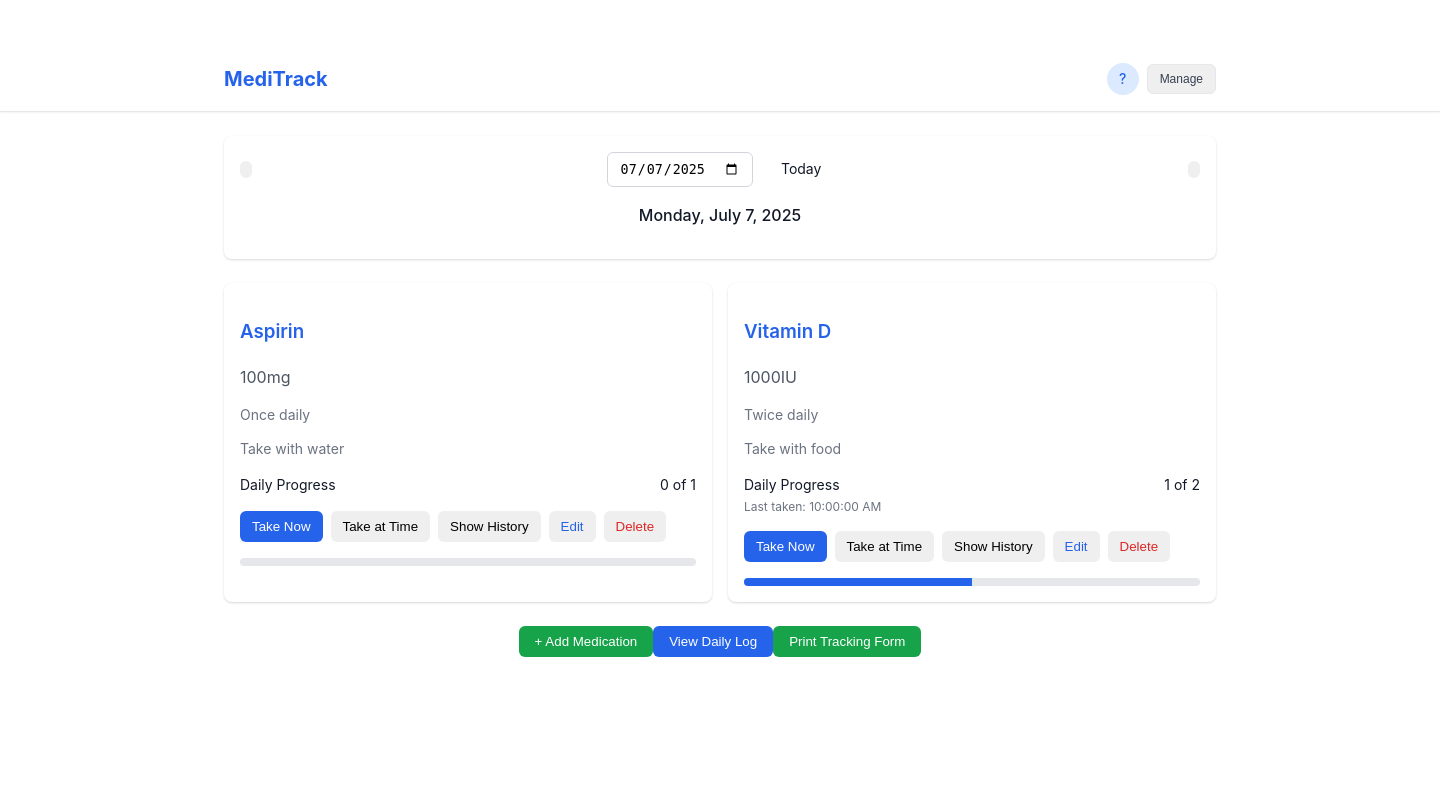
Test: MedicationTracker › Medication CRUD Operations › shows edit form when Edit button is clicked
The image size is (1440, 810).
Click the button "Edit" below "Take with water".
click(572, 526)  # box [549,511,596,542]
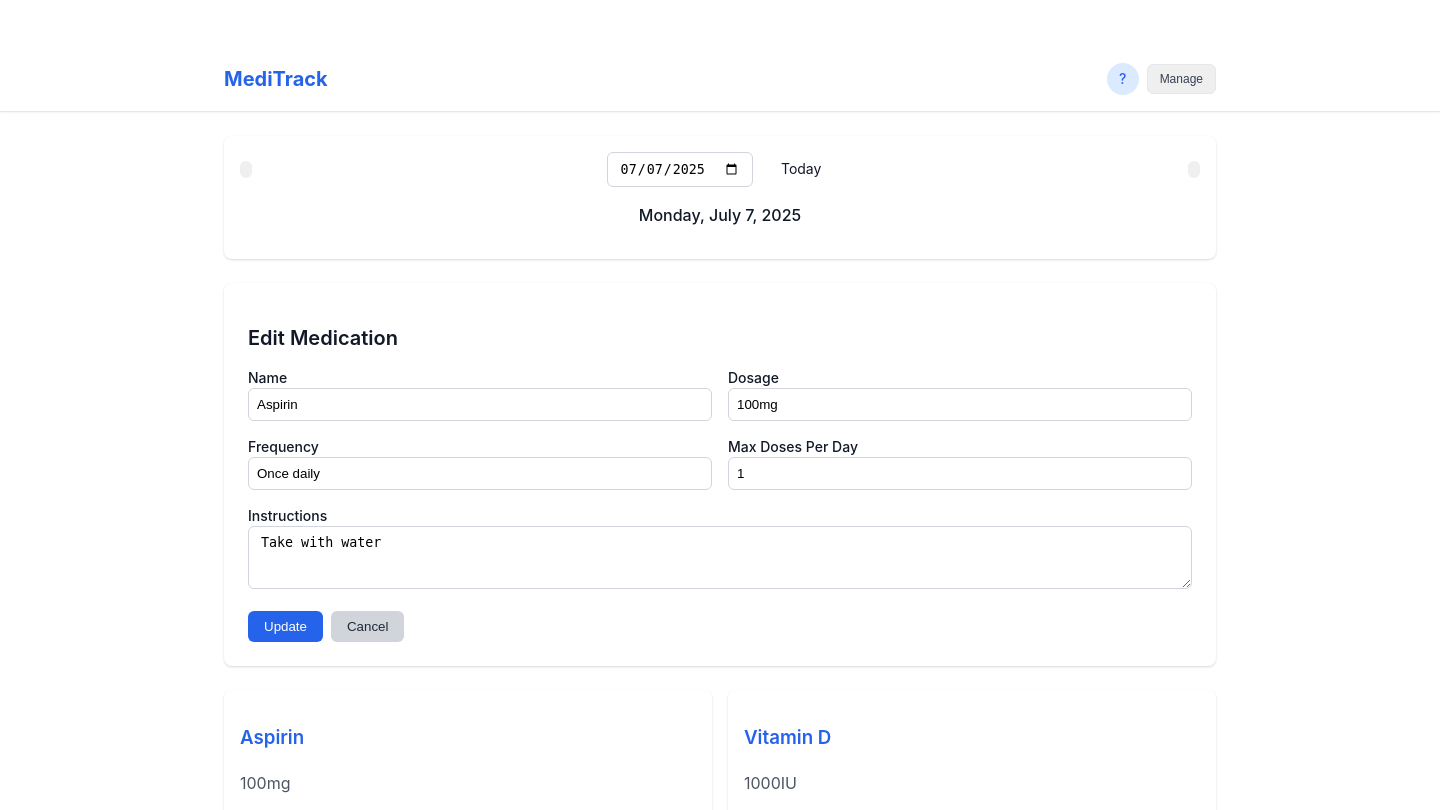
expect the heading "Edit Medication" is shown: met, box [248,326,398,350]
expect the field showing "Aspirin" is shown: met, box [248,388,712,421]
expect the field showing "100mg" is shown: met, box [728,388,1192,421]
